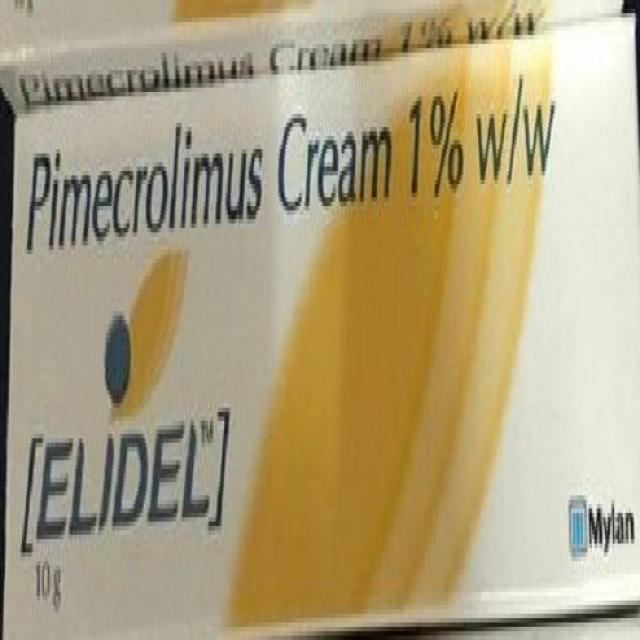drug-name: (24, 423, 215, 542)
